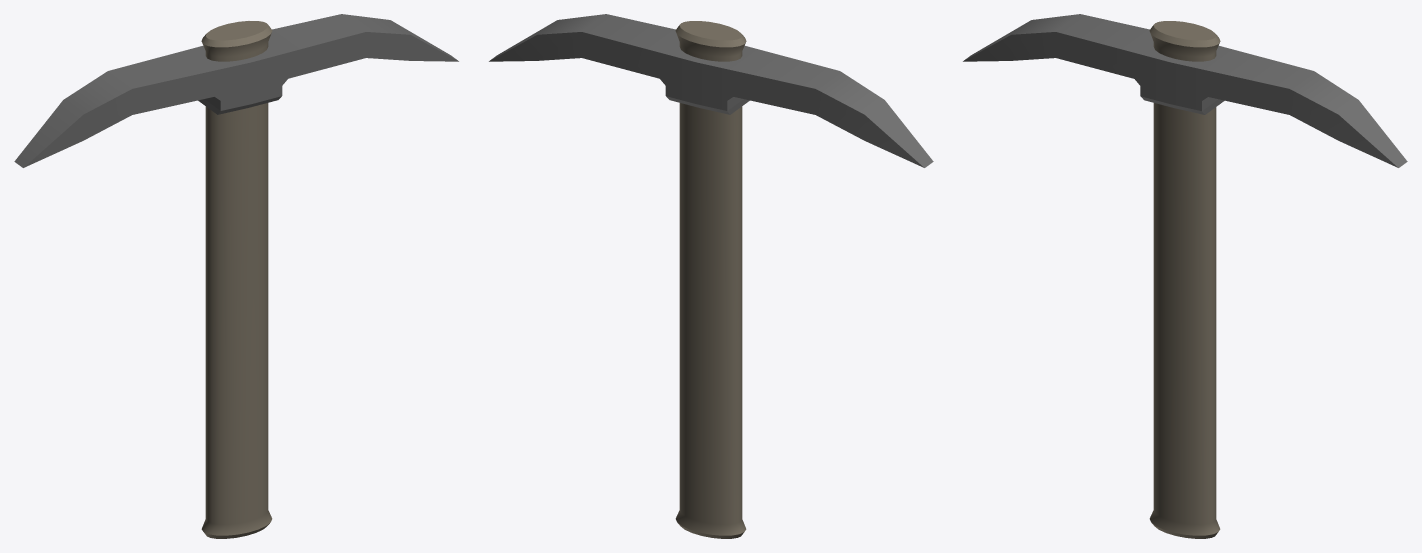
The model's file is PickAxe_FBX.fbx.
3 views of the same model, side by side, from view 1: azimuth 30°, elevation 25°; view 2: azimuth 150°, elevation 25°; view 3: azimuth 330°, elevation 25° (orthographic).
Parts seen in each view (by area): view 1: pCube2; view 2: pCube2; view 3: pCube2.
Part boxes in pixels (x1=…): pCube2: x1=14, y1=14, x2=458, y2=538; pCube2: x1=489, y1=14, x2=933, y2=538; pCube2: x1=963, y1=14, x2=1407, y2=538.
Bounding box in the file's own units: 131 × 143 × 15.39.
